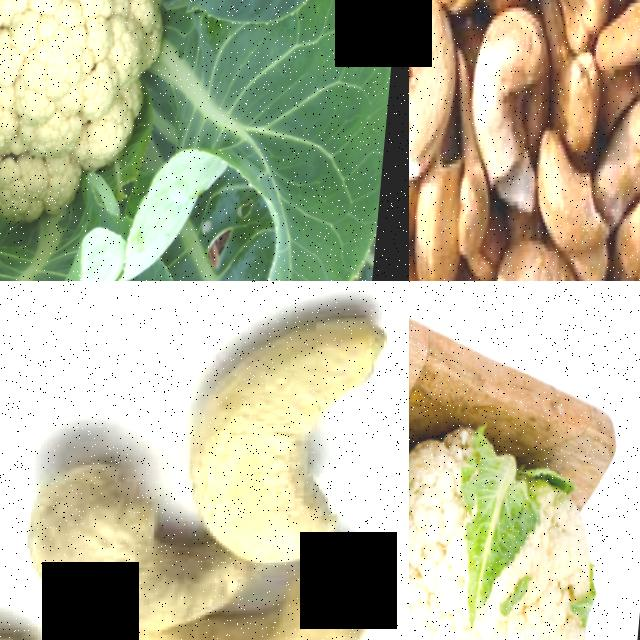cashew: (170, 286, 409, 557), (0, 466, 201, 630), (144, 586, 409, 640), (525, 118, 610, 249)
cauliflower: (0, 0, 312, 281), (409, 371, 636, 640)
